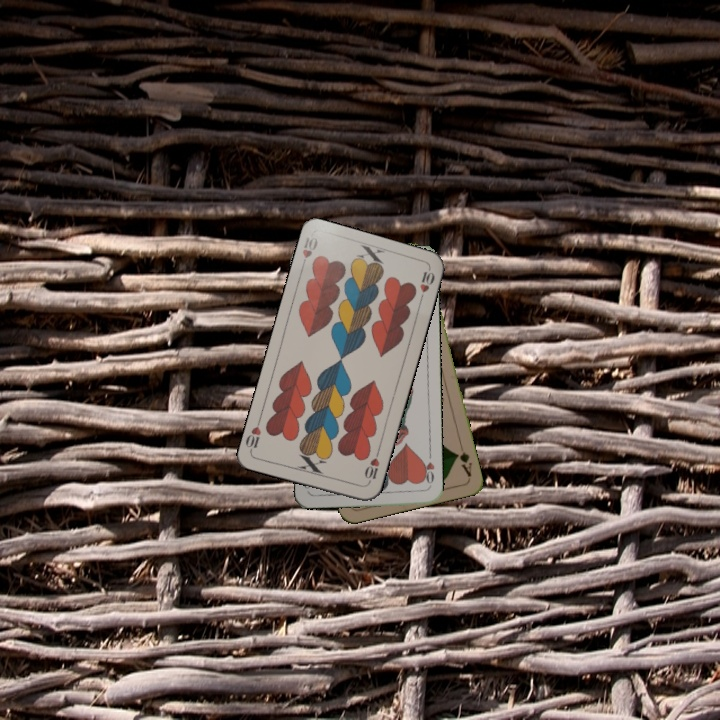GA: (452, 439, 474, 479)
H10: (297, 233, 320, 272), (360, 447, 382, 487)
HO: (418, 449, 437, 489)
